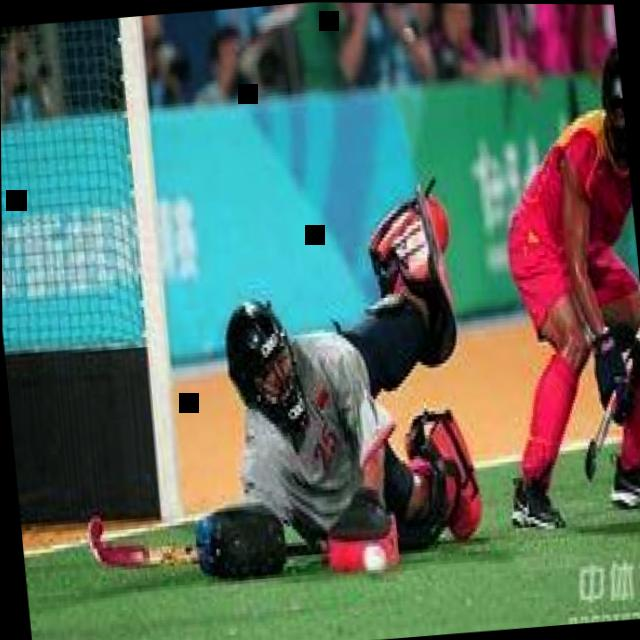Fall-Detected: (163, 148, 499, 575)
